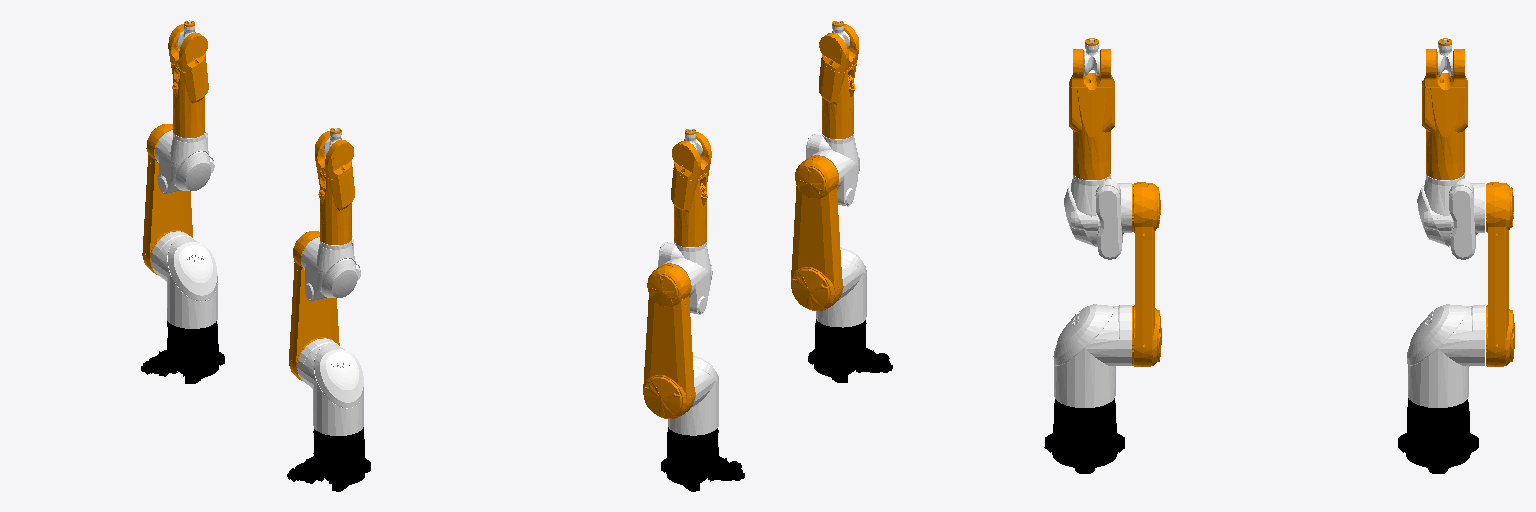
The robot description file, URDF, robot "TX60L":
<?xml version="1.0"?>
<robot name="TX60L">

<link name="base_link" >
	<visual>
		<geometry>
			<box size="0.01 0.01 0.01" />
		</geometry>
		<origin xyz="0 0 0" rpy="0 0 0" />
		<material name="black">
		<color rgba="0 0 0 1"/>
		</material>
	</visual>
</link>

<joint name="joint_01" type="fixed">
	<parent link="base_link"/>
	<child link="base1"/>
	<origin xyz="0 0 0" rpy="0 0 0" />
</joint>

<link name="base1" >
	<visual>
		<geometry>
			<mesh filename="package://tx60l_urdf/meshes/bt.stl"/>
		</geometry>
		<origin xyz="0 0 0" rpy="0 0 0" />
		<material name="black">
		<color rgba="0 0 0 1"/>
		</material>
	</visual>
	<collision>
		<geometry>
			<mesh filename="package://tx60l_urdf/meshes/bt_col.stl"/>
		</geometry>
		<origin xyz="0 0 0" rpy="0 0 0" />
	</collision>
</link>

<joint name="joint_1" type="revolute">
	<parent link="base1"/>
	<child link="at1"/>
	<origin xyz="0 0 0.375" rpy="0 0 3.1416" />
	<axis xyz="0 0 1" />
	<limit lower="-3.1241" upper="3.1241" effort="100" velocity="435" />
</joint>

<link name="at1" >
	<visual>
		<geometry>
			<mesh filename="package://tx60l_urdf/meshes/at1.stl"/>
		</geometry>
		<origin xyz="0 0 0" rpy="4.7124 0 3.1416" />
		<material name="white">
		<color rgba="1 1 1 1"/>
		</material>
	</visual>
	<collision>
		<geometry>
			<mesh filename="package://tx60l_urdf/meshes/at1_col.stl"/>
		</geometry>
		<origin xyz="0 0 0" rpy="4.7124 0 3.1416" />
	</collision>
</link>

<joint name="joint_2" type="revolute">
	<parent link="at1"/>
	<child link="at2"/>
	<origin xyz="0 0 0" rpy="0 0 0" />
	<axis xyz="0 -1 0" />
	<limit lower="-2.2078" upper="2.2078" effort="100" velocity="385" />
</joint>

<link name="at2" >
	<visual>
	<geometry>
		<mesh filename="package://tx60l_urdf/meshes/at2.stl"/>
	</geometry>
	<origin xyz="0 0 0" rpy="1.5708 3.1416 0" />
	<material name="orange">
		<color rgba="1 0.6 0 1"/>
	</material>
	</visual>

<collision>
	<geometry>
		<mesh filename="package://tx60l_urdf/meshes/at2_col.stl"/>
	</geometry>
	<origin xyz="0 0 0" rpy="1.5708 3.1416 0" />
</collision>
</link>

<joint name="joint_3" type="revolute">
	<parent link="at2"/>
	<child link="at3"/>
	<origin xyz="0 0.02 0.400" rpy="0 0 0" />
	<axis xyz="0 -1 0" />
	<limit lower="-2.6442" upper="2.6442" effort="100" velocity="500" />
</joint>

<link name="at3" >
	<visual>
	<geometry>
		<mesh filename="package://tx60l_urdf/meshes/at3.stl"/>
	</geometry>
	<origin xyz="0 -0.04 0" rpy="4.7124 0 3.1416"/>
	<material name="white">
		<color rgba="1 1 1 1"/>
	</material>
	</visual>
	<collision>
		<geometry>
			<mesh filename="package://tx60l_urdf/meshes/at3_col.stl"/>
		</geometry>
		<origin xyz="0 -0.04 0" rpy="4.7124 0 3.1416" />
	</collision>
</link>

<joint name="joint_4" type="revolute">
	<parent link="at3"/>
	<child link="at4"/>
	<origin xyz="0 -0.04 0" rpy="0 0 3.1416" />
	<axis xyz="0 0 1" />
	<limit lower="-4.6949" upper="4.6949" effort="100" velocity="995" />
</joint>

<link name="at4" >
	<visual>
		<geometry>
			<mesh filename="package://tx60l_urdf/meshes/at4.stl"/>
		</geometry>
		<origin xyz="0 0 0" rpy="0 0 0"/>
		<material name="orange">
			<color rgba="1 0.6 0 1"/>
		</material>
	</visual>
	<collision>
		<geometry>
			<mesh filename="package://tx60l_urdf/meshes/at4_col.stl"/>
		</geometry>
		<origin xyz="0 0 0" rpy="0 0 0" />
	</collision>
</link>

<joint name="joint_5" type="revolute">
	<parent link="at4"/>
	<child link="at5"/>
	<origin xyz="0 0 0.450" rpy="0 0 0" />
	<axis xyz="0 1 0" />
	<limit lower="-2.2078" upper="2.2951" effort="100" velocity="1065" />
</joint>

<link name="at5" >
	<visual>
		<geometry>
			<mesh filename="package://tx60l_urdf/meshes/at5.stl"/>
		</geometry>
		<origin xyz="0 0 0" rpy="-1.57079635 0 0"/>
		<material name="white">
			<color rgba="1 1 1 1"/>
		</material>
	</visual>
	<collision>
		<geometry>
			<mesh filename="package://tx60l_urdf/meshes/at5_col.stl"/>
		</geometry>
		<origin xyz="0 0 0" rpy="-1.57079635 0 0" />
	</collision>
</link>

<joint name="joint_6" type="revolute">
	<parent link="at5"/>
	<child link="at6"/>
	<origin xyz="0 0 0.07" rpy="0 0 0" />
	<axis xyz="0 0 1" />
	<limit lower="-4.6949" upper="4.6949" effort="100" velocity="1445" />
</joint>

<link name="at6" >
	<visual>
		<geometry>
			<mesh filename="package://tx60l_urdf/meshes/at6.stl"/>
		</geometry>
		<origin xyz="0 0 0" rpy="0 0 0"/>
		<material name="orange">
			<color rgba="1 0.6 0 1"/>
		</material>
	</visual>
	<collision>
		<geometry>
			<mesh filename="package://tx60l_urdf/meshes/at6.stl"/>
		</geometry>
		<origin xyz="0 0 0" rpy="0 0 0" />
	</collision>
</link>

<joint name="joint_7" type="fixed">
	<parent link="at6"/>
	<child link="dummy"/>
	<origin xyz="0 0 0" rpy="0 0 0" />
</joint>

<link name="dummy" >
	<visual>
		<geometry>
			<box size="0.01 0.01 0.01" />
		</geometry>
	<material name="invisible">
		<color rgba="1 1 1 0"/>
	</material>
	</visual>
	<collision>
		<geometry>
			<box size="0.01 0.01 0.01" />
		</geometry>
	</collision>
</link>











<joint name="joint_02" type="fixed">
	<parent link="base_link"/>
	<child link="base2"/>
	<origin xyz="0 1 0" rpy="0 0 0" />
</joint>

<link name="base2" >
	<visual>
		<geometry>
			<mesh filename="package://tx60l_urdf/meshes/bt.stl"/>
		</geometry>
		<origin xyz="0 0 0" rpy="0 0 0" />
		<material name="black">
		<color rgba="0 0 0 1"/>
		</material>
	</visual>
	<collision>
		<geometry>
			<mesh filename="package://tx60l_urdf/meshes/bt_col.stl"/>
		</geometry>
		<origin xyz="0 0 0" rpy="0 0 0" />
	</collision>
</link>

<joint name="joint_1X" type="revolute">
	<parent link="base2"/>
	<child link="at1X"/>
	<origin xyz="0 0 0.375" rpy="0 0 3.1416" />
	<axis xyz="0 0 1" />
	<limit lower="-3.1241" upper="3.1241" effort="100" velocity="435" />
</joint>

<link name="at1X" >
	<visual>
		<geometry>
			<mesh filename="package://tx60l_urdf/meshes/at1.stl"/>
		</geometry>
		<origin xyz="0 0 0" rpy="4.7124 0 3.1416" />
		<material name="white">
		<color rgba="1 1 1 1"/>
		</material>
	</visual>
	<collision>
		<geometry>
			<mesh filename="package://tx60l_urdf/meshes/at1_col.stl"/>
		</geometry>
		<origin xyz="0 0 0" rpy="4.7124 0 3.1416" />
	</collision>
</link>

<joint name="joint_2X" type="revolute">
	<parent link="at1X"/>
	<child link="at2X"/>
	<origin xyz="0 0 0" rpy="0 0 0" />
	<axis xyz="0 -1 0" />
	<limit lower="-2.2078" upper="2.2078" effort="100" velocity="385" />
</joint>

<link name="at2X" >
	<visual>
	<geometry>
		<mesh filename="package://tx60l_urdf/meshes/at2.stl"/>
	</geometry>
	<origin xyz="0 0 0" rpy="1.5708 3.1416 0" />
	<material name="orange">
		<color rgba="1 0.6 0 1"/>
	</material>
	</visual>

<collision>
	<geometry>
		<mesh filename="package://tx60l_urdf/meshes/at2_col.stl"/>
	</geometry>
	<origin xyz="0 0 0" rpy="1.5708 3.1416 0" />
</collision>
</link>

<joint name="joint_3X" type="revolute">
	<parent link="at2X"/>
	<child link="at3X"/>
	<origin xyz="0 0.02 0.400" rpy="0 0 0" />
	<axis xyz="0 -1 0" />
	<limit lower="-2.6442" upper="2.6442" effort="100" velocity="500" />
</joint>

<link name="at3X" >
	<visual>
	<geometry>
		<mesh filename="package://tx60l_urdf/meshes/at3.stl"/>
	</geometry>
	<origin xyz="0 -0.04 0" rpy="4.7124 0 3.1416"/>
	<material name="white">
		<color rgba="1 1 1 1"/>
	</material>
	</visual>
	<collision>
		<geometry>
			<mesh filename="package://tx60l_urdf/meshes/at3_col.stl"/>
		</geometry>
		<origin xyz="0 -0.04 0" rpy="4.7124 0 3.1416" />
	</collision>
</link>

<joint name="joint_4X" type="revolute">
	<parent link="at3X"/>
	<child link="at4X"/>
	<origin xyz="0 -0.04 0" rpy="0 0 3.1416" />
	<axis xyz="0 0 1" />
	<limit lower="-4.6949" upper="4.6949" effort="100" velocity="995" />
</joint>

<link name="at4X" >
	<visual>
		<geometry>
			<mesh filename="package://tx60l_urdf/meshes/at4.stl"/>
		</geometry>
		<origin xyz="0 0 0" rpy="0 0 0"/>
		<material name="orange">
			<color rgba="1 0.6 0 1"/>
		</material>
	</visual>
	<collision>
		<geometry>
			<mesh filename="package://tx60l_urdf/meshes/at4_col.stl"/>
		</geometry>
		<origin xyz="0 0 0" rpy="0 0 0" />
	</collision>
</link>

<joint name="joint_5X" type="revolute">
	<parent link="at4X"/>
	<child link="at5X"/>
	<origin xyz="0 0 0.450" rpy="0 0 0" />
	<axis xyz="0 1 0" />
	<limit lower="-2.2078" upper="2.2951" effort="100" velocity="1065" />
</joint>

<link name="at5X" >
	<visual>
		<geometry>
			<mesh filename="package://tx60l_urdf/meshes/at5.stl"/>
		</geometry>
		<origin xyz="0 0 0" rpy="-1.57079635 0 0"/>
		<material name="white">
			<color rgba="1 1 1 1"/>
		</material>
	</visual>
	<collision>
		<geometry>
			<mesh filename="package://tx60l_urdf/meshes/at5_col.stl"/>
		</geometry>
		<origin xyz="0 0 0" rpy="-1.57079635 0 0" />
	</collision>
</link>

<joint name="joint_6X" type="revolute">
	<parent link="at5X"/>
	<child link="at6X"/>
	<origin xyz="0 0 0.07" rpy="0 0 0" />
	<axis xyz="0 0 1" />
	<limit lower="-4.6949" upper="4.6949" effort="100" velocity="1445" />
</joint>

<link name="at6X" >
	<visual>
		<geometry>
			<mesh filename="package://tx60l_urdf/meshes/at6.stl"/>
		</geometry>
		<origin xyz="0 0 0" rpy="0 0 0"/>
		<material name="orange">
			<color rgba="1 0.6 0 1"/>
		</material>
	</visual>
	<collision>
		<geometry>
			<mesh filename="package://tx60l_urdf/meshes/at6.stl"/>
		</geometry>
		<origin xyz="0 0 0" rpy="0 0 0" />
	</collision>
</link>

<joint name="joint_7X" type="fixed">
	<parent link="at6X"/>
	<child link="dummyX"/>
	<origin xyz="0 0 0" rpy="0 0 0" />
</joint>

<link name="dummyX" >
	<visual>
		<geometry>
			<box size="0.01 0.01 0.01" />
		</geometry>
	<material name="invisible">
		<color rgba="1 1 1 0"/>
	</material>
	</visual>
	<collision>
		<geometry>
			<box size="0.01 0.01 0.01" />
		</geometry>
	</collision>
</link>


</robot>

--- Facts derived from the render (not from the file) ---
Views: 3 orthographic renders of the robot side by side, from view 1: azimuth 30°, elevation 25°; view 2: azimuth 150°, elevation 25°; view 3: azimuth 270°, elevation 25°.
Model TX60L with 17 links and 16 joints (12 revolute, 4 fixed), rooted at base_link, posed all joints at 0.
Visible links, largest first — view 1: at1, at1X, at4X, at4, at2, base1, at2X, base2, at3X, at3; view 2: at2, at2X, at4X, at4, base2, base1, at1, at1X, at3X, at3; view 3: at1, at1X, at4X, at4, at2, at2X, at3, at3X, base2, base1.
Link boxes in pixels (x1=…): at1: x1=297, y1=338, x2=363, y2=435; at1X: x1=151, y1=231, x2=217, y2=328; at4X: x1=168, y1=24, x2=208, y2=137; at4: x1=315, y1=131, x2=354, y2=244; at2: x1=289, y1=231, x2=339, y2=380; base1: x1=287, y1=427, x2=370, y2=491; at2X: x1=142, y1=124, x2=192, y2=274; base2: x1=141, y1=321, x2=224, y2=383; at3X: x1=155, y1=128, x2=214, y2=193; at3: x1=301, y1=236, x2=360, y2=300; at2: x1=791, y1=155, x2=842, y2=310; at2X: x1=643, y1=263, x2=694, y2=418; at4X: x1=671, y1=132, x2=711, y2=246; at4: x1=819, y1=24, x2=858, y2=138; base2: x1=661, y1=427, x2=744, y2=491; base1: x1=808, y1=319, x2=892, y2=382; at1: x1=816, y1=247, x2=866, y2=327; at1X: x1=668, y1=355, x2=718, y2=435; at3X: x1=658, y1=242, x2=712, y2=314; at3: x1=806, y1=134, x2=859, y2=206; at1: x1=1053, y1=304, x2=1131, y2=407; at1X: x1=1407, y1=304, x2=1484, y2=407; at4X: x1=1422, y1=49, x2=1467, y2=179; at4: x1=1069, y1=49, x2=1114, y2=179; at2: x1=1132, y1=182, x2=1161, y2=366; at2X: x1=1486, y1=182, x2=1514, y2=366; at3: x1=1064, y1=174, x2=1131, y2=259; at3X: x1=1417, y1=173, x2=1484, y2=259; base2: x1=1398, y1=398, x2=1478, y2=473; base1: x1=1044, y1=398, x2=1124, y2=473.
Size in the robot's own frame: 0.3155 by 1.33 by 1.3 metres.
Meshes: 7 distinct files referenced, 14 mesh visuals loaded (7 binary STL).